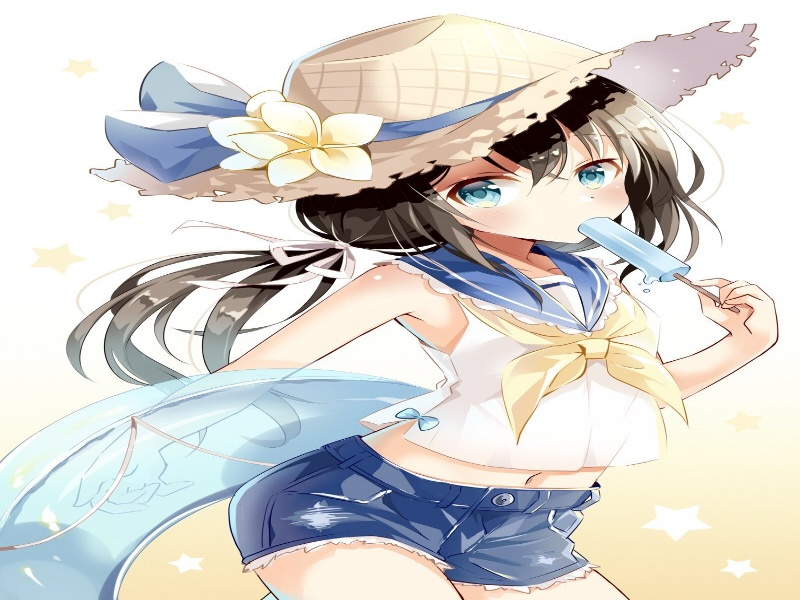person: (404, 103, 669, 263)
